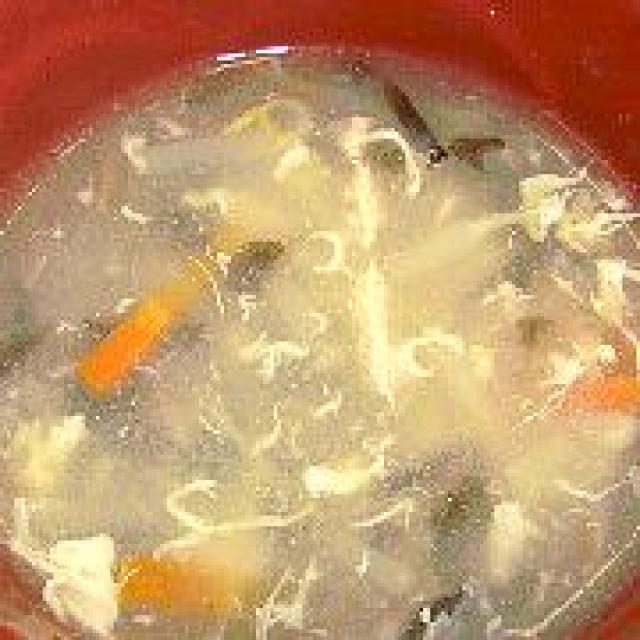汤锅炖物: (0, 35, 633, 640)
